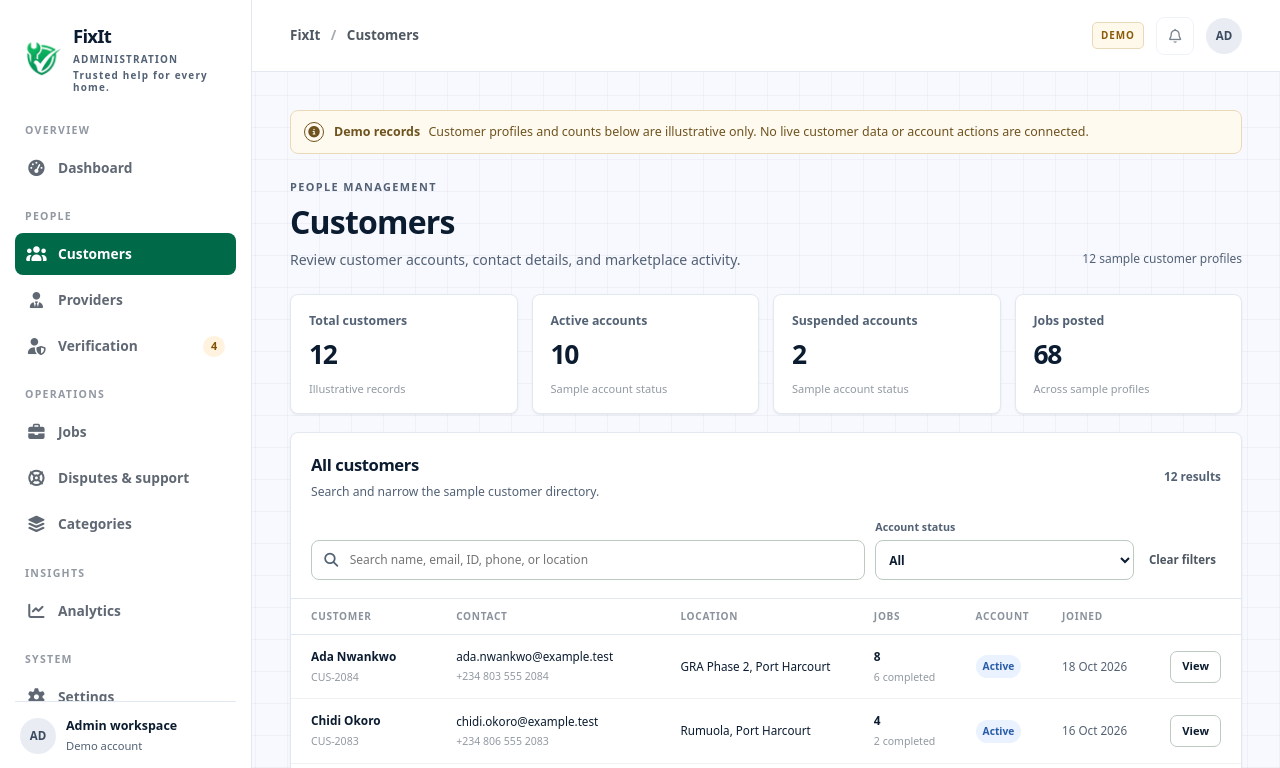
it: FixIt admin workspace › searches customer records and clears the search
Type "Mariam" into the search field named "Search customers" at (600, 560), box [348,550,853,570]
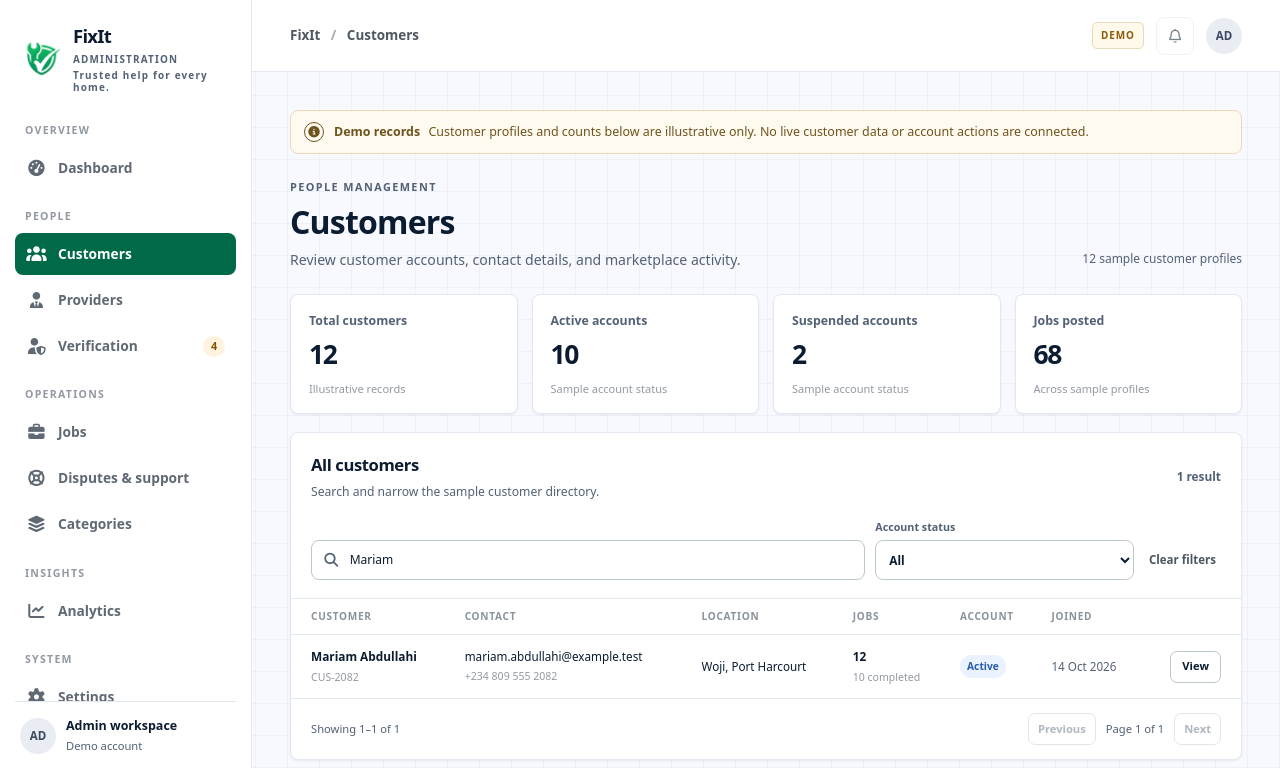
expect the text "Mariam Abdullahi" is shown: met, box [311,648,417,664]
expect the text "Ada Nwankwo" is gone: met
Click the button "Clear filters" at (1182, 560), box [1144,540,1221,580]
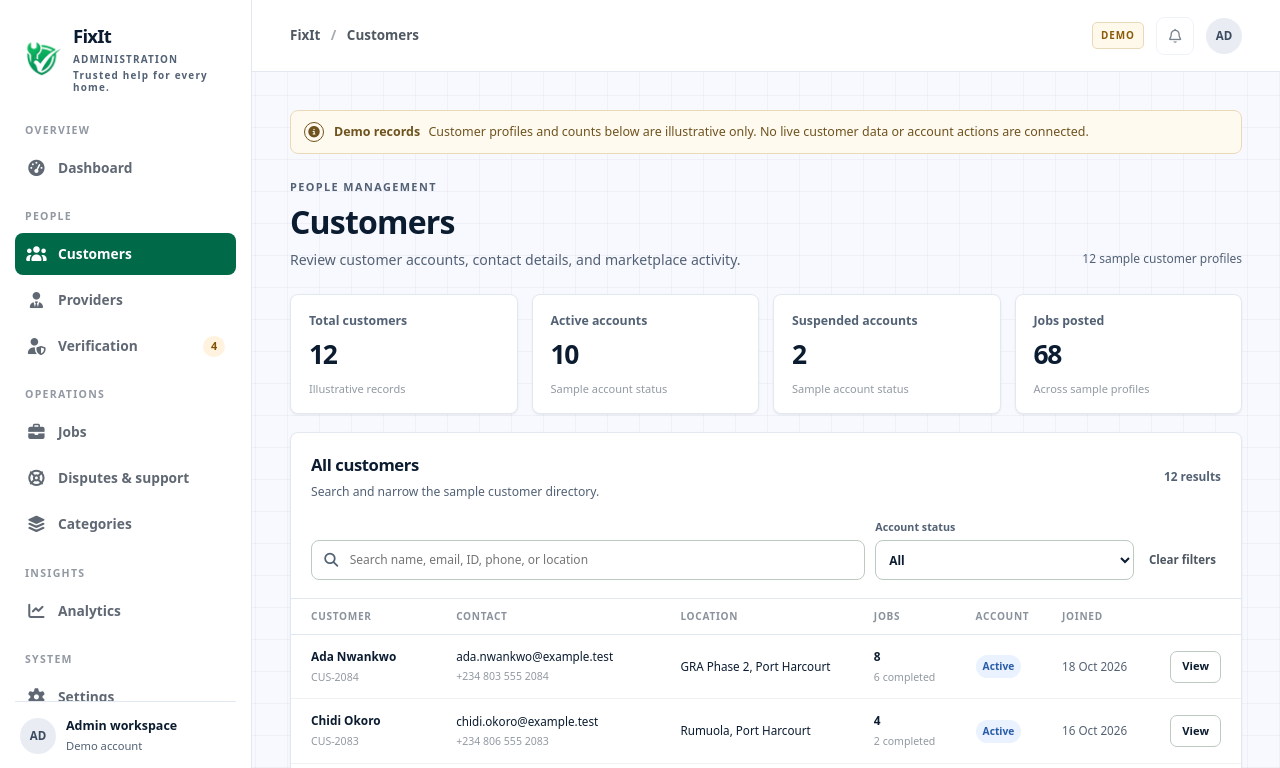
expect the text "Ada Nwankwo" is shown: met, box [311,648,396,664]
